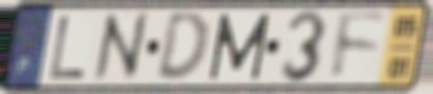3: (279, 8, 329, 85)
D: (153, 10, 211, 85)
F: (330, 9, 390, 84)
L: (46, 14, 89, 82)
M: (206, 12, 273, 83)
N: (91, 9, 151, 85)
